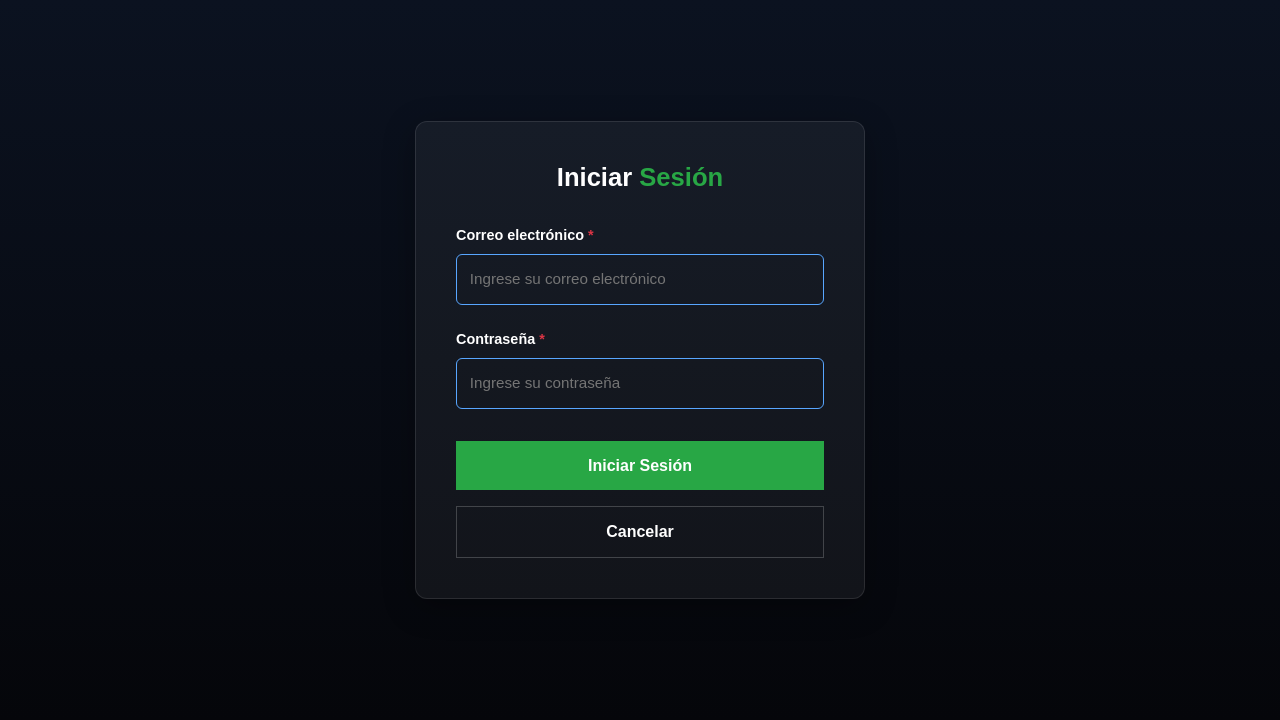
Scenario: DT_02 - Inicio de sesion en la plataforma › DT_02_5: Correo invalido en frontend bloquea la peticion de login
This screenshot has width=1280, height=720.
Expected: the form is shown, x1=456 y1=225 x2=824 y2=558
Step 1. Type "correo-invalido" into the field with id "correo" → (640, 279), box x1=456 y1=254 x2=824 y2=304
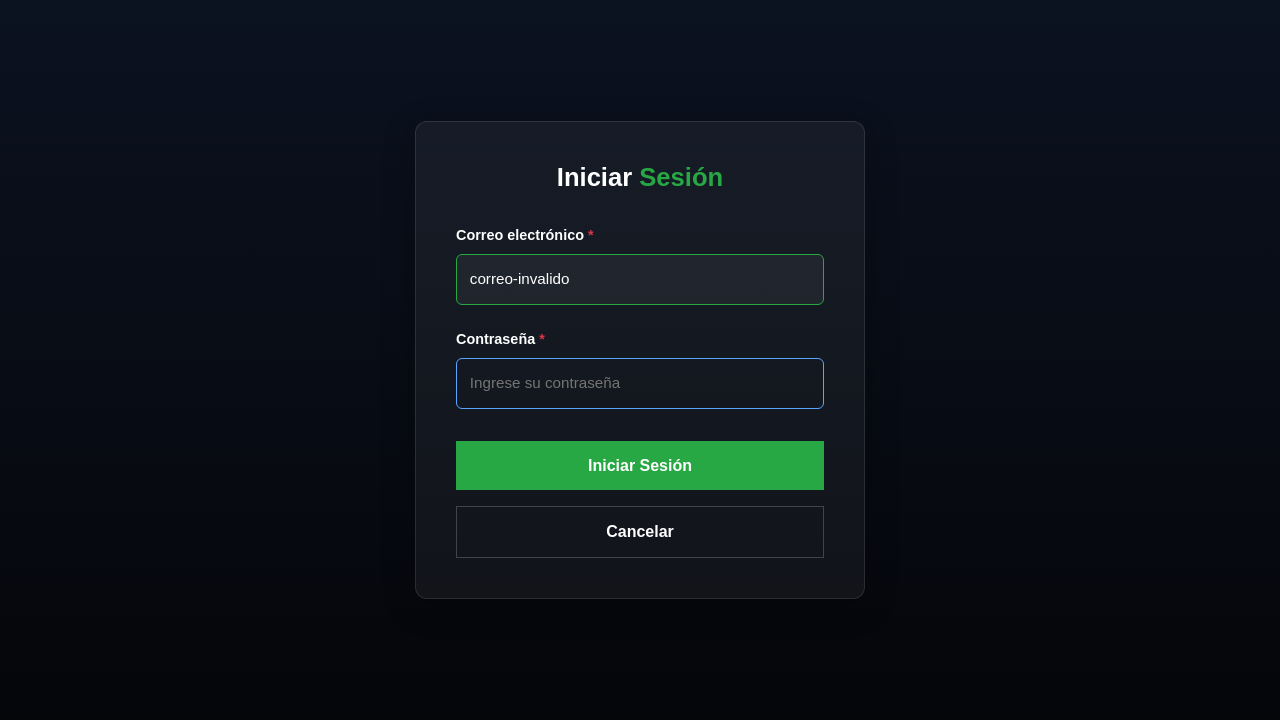
Step 2. Type "Password123" into the password field with id "contrasena" → (640, 383), box x1=456 y1=358 x2=824 y2=408
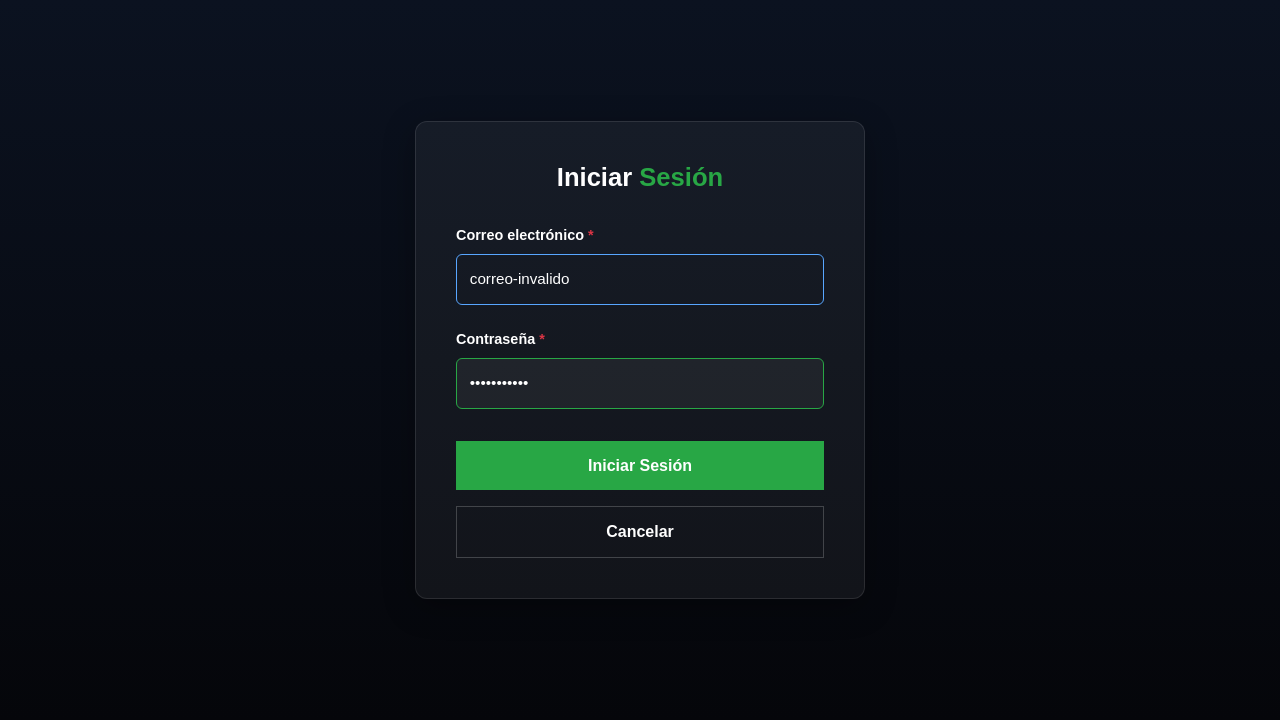
Step 3. Click the button "Iniciar Sesión" → (640, 466), box x1=456 y1=441 x2=824 y2=491
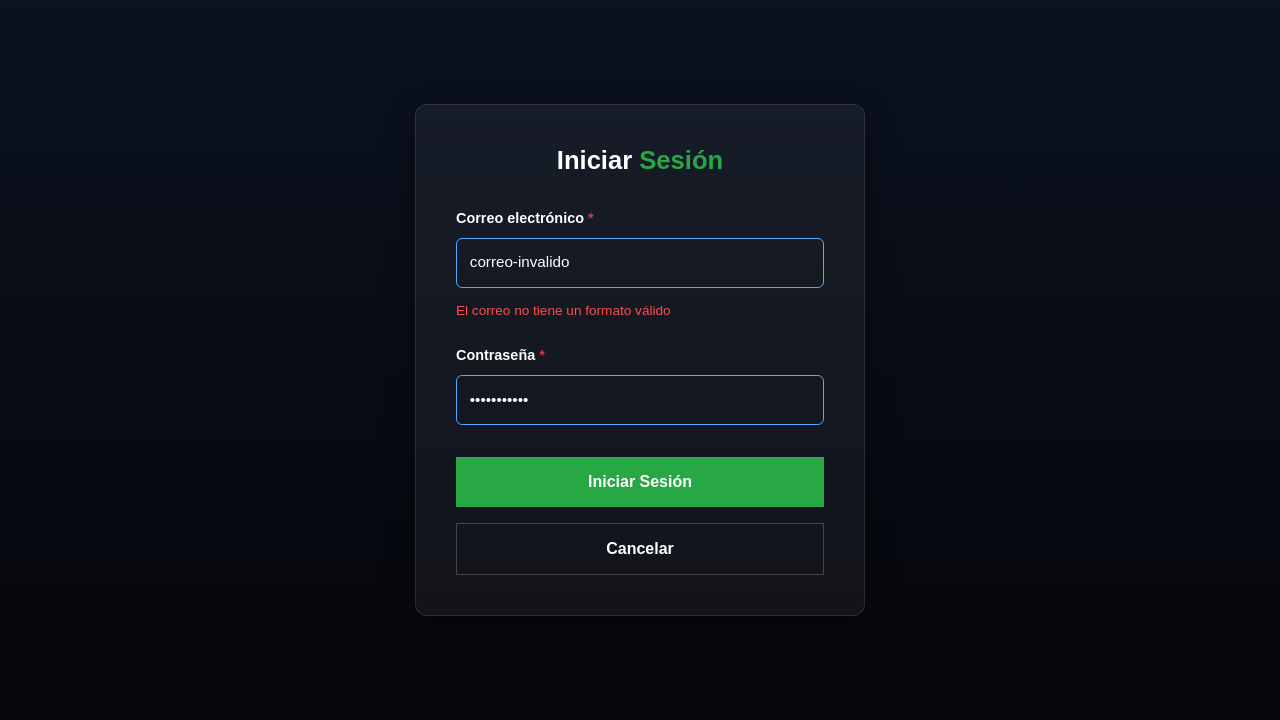
Expected: the text "El correo no tiene un formato válido" is shown, x1=456 y1=303 x2=671 y2=318
